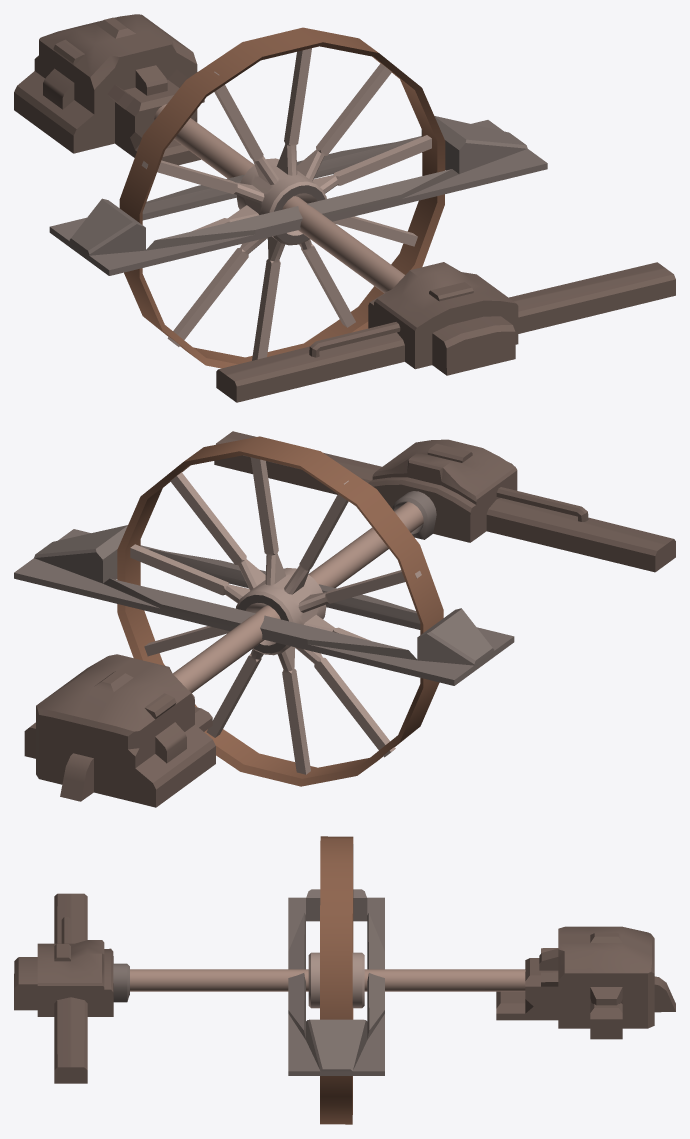
Rendered from Machinery TOLL.fbx.
3 renders of one model, top to bottom at view 1: azimuth 30°, elevation 25°; view 2: azimuth 150°, elevation 25°; view 3: azimuth 270°, elevation 25°, orthographic. The views are drawn at different scales.
Parts seen in each view (by area): view 1: pCube3, pCube6, pCube4, pCylinder5, pTorus2, pCylinder4; view 2: pCube4, pCube6, pCube3, pCylinder5, pTorus2, pCylinder4, pCylinder6; view 3: pCube4, pCube3, pCube6, pTorus2, pCylinder4, pCylinder5, pCylinder6.
Boxes of the visible parts, x1,y1,x2,y2 form: pCube3: (216,262,675,402); pCube6: (49,116,547,275); pCube4: (14,14,204,165); pCylinder5: (141,48,431,360); pTorus2: (119,27,445,368); pCylinder4: (154,104,404,293); pCube4: (24,654,215,807); pCube6: (14,525,514,685); pCube3: (214,431,675,572); pCylinder5: (130,457,421,774); pTorus2: (117,436,443,786); pCylinder4: (173,501,423,692); pCylinder6: (392,491,436,539); pCube4: (496,926,675,1039); pCube3: (14,893,113,1083); pCube6: (288,889,384,1075); pTorus2: (320,836,353,1124); pCylinder4: (130,969,525,991); pCylinder5: (308,952,364,1008); pCylinder6: (113,963,129,1002).
Size of the model in its own units: 4.41 by 2.96 by 6.85.
